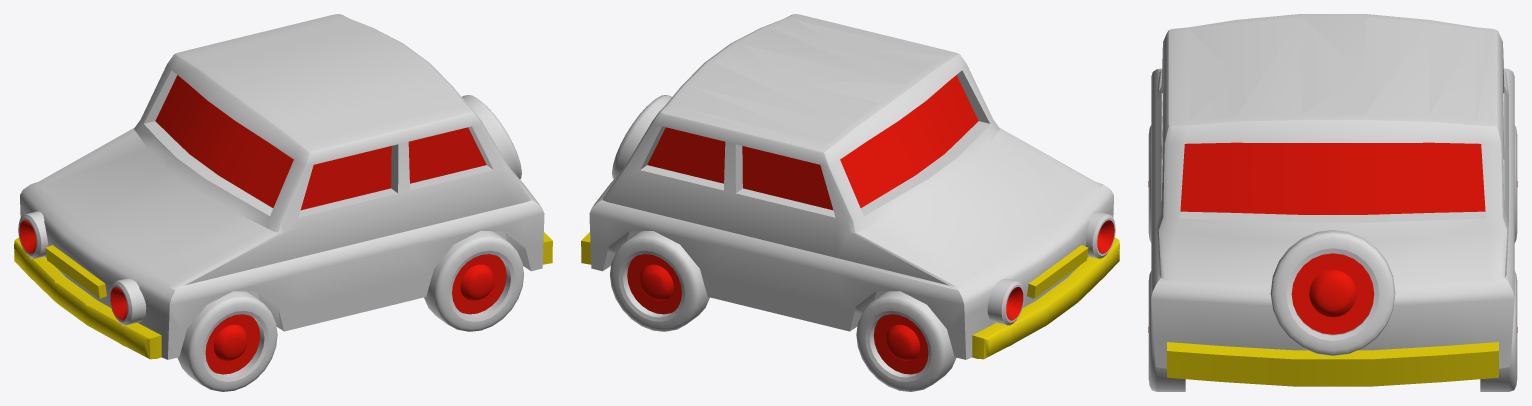
Rendered from Car.fbx.
3 renders of one model, left to right at view 1: azimuth 30°, elevation 25°; view 2: azimuth 150°, elevation 25°; view 3: azimuth 270°, elevation 25°, orthographic. The views are drawn at different scales.
Parts seen in each view (by area): view 1: Cube, Cylinder.004, Cylinder.007, Cylinder.008, Cylinder.010, Cylinder.009; view 2: Cube, Cylinder.006, Cylinder.005, Cylinder.009, Cylinder.010, Cylinder.008; view 3: Cube, Cylinder.010, Cylinder.007, Cylinder.005, Cylinder.006, Cylinder.004.
Part boxes in pixels (left/top/right/bottom): Cube: left=14, top=14, right=552, bottom=359; Cylinder.004: left=177, top=291, right=277, bottom=391; Cylinder.007: left=424, top=231, right=523, bottom=331; Cylinder.008: left=109, top=278, right=146, bottom=325; Cylinder.010: left=462, top=95, right=521, bottom=179; Cylinder.009: left=18, top=211, right=48, bottom=258; Cube: left=581, top=14, right=1119, bottom=359; Cylinder.006: left=856, top=291, right=956, bottom=391; Cylinder.005: left=610, top=231, right=709, bottom=331; Cylinder.009: left=987, top=278, right=1024, bottom=325; Cylinder.010: left=612, top=95, right=671, bottom=179; Cylinder.008: left=1085, top=211, right=1115, bottom=258; Cube: left=1151, top=14, right=1514, bottom=386; Cylinder.010: left=1270, top=230, right=1395, bottom=355; Cylinder.007: left=1148, top=271, right=1185, bottom=391; Cylinder.005: left=1480, top=271, right=1517, bottom=391; Cylinder.006: left=1514, top=125, right=1517, bottom=242; Cylinder.004: left=1148, top=125, right=1151, bottom=242.
Bounding box in the file's own units: 667 × 325 × 401.
